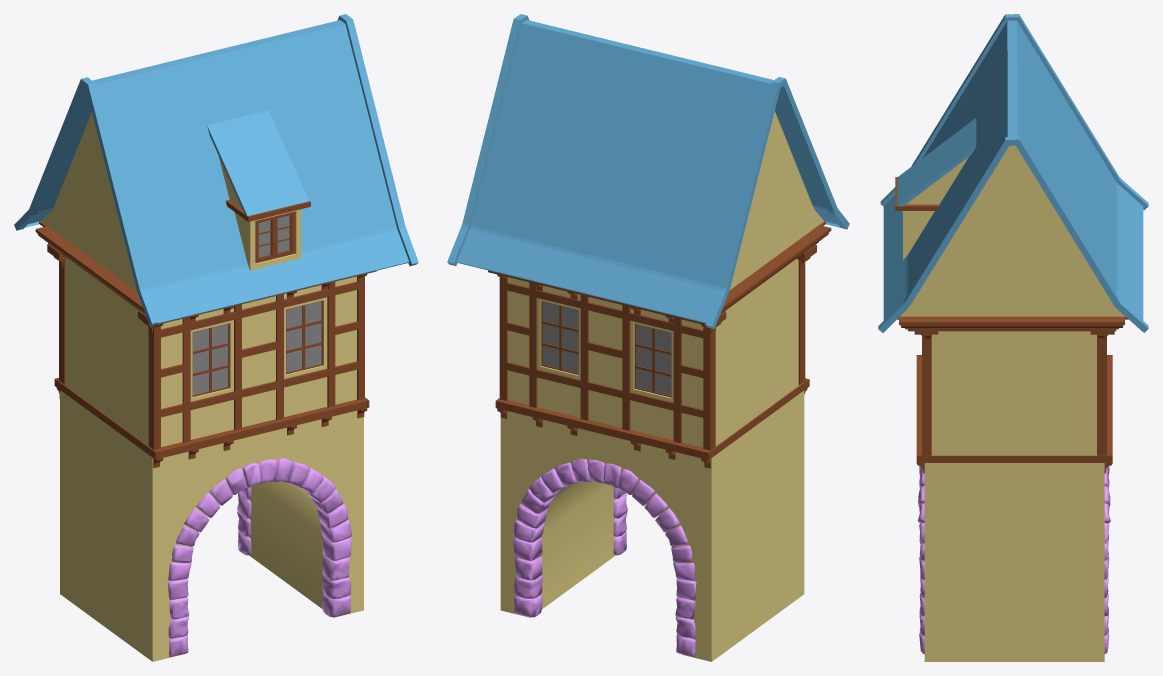
Rendered from talou1.FBX.
3 views of the same model, side by side, from view 1: azimuth 30°, elevation 25°; view 2: azimuth 150°, elevation 25°; view 3: azimuth 270°, elevation 25° (orthographic). The views are drawn at different scales.
Visible parts, largest first — view 1: GateHouseSM_PlasterYellow, GateHouseSM_RoofTiles, GateHouseSM_Wood_Beams, GateHouseSM_Stone_Stacked, GateHouseSM_Glass, GateHouseSM_Mullions_Wood; view 2: GateHouseSM_RoofTiles, GateHouseSM_PlasterYellow, GateHouseSM_Wood_Beams, GateHouseSM_Stone_Stacked, GateHouseSM_Glass, GateHouseSM_Mullions_Wood; view 3: GateHouseSM_PlasterYellow, GateHouseSM_RoofTiles, GateHouseSM_Wood_Beams, GateHouseSM_Stone_Stacked.
Part boxes in pixels (bbox=[...]): GateHouseSM_PlasterYellow: bbox=[41, 112, 363, 661]; GateHouseSM_RoofTiles: bbox=[14, 14, 418, 325]; GateHouseSM_Wood_Beams: bbox=[35, 199, 376, 467]; GateHouseSM_Stone_Stacked: bbox=[167, 458, 351, 657]; GateHouseSM_Glass: bbox=[193, 215, 321, 395]; GateHouseSM_Mullions_Wood: bbox=[192, 211, 323, 396]; GateHouseSM_RoofTiles: bbox=[447, 14, 849, 328]; GateHouseSM_PlasterYellow: bbox=[500, 111, 823, 661]; GateHouseSM_Wood_Beams: bbox=[488, 221, 831, 468]; GateHouseSM_Stone_Stacked: bbox=[513, 458, 696, 656]; GateHouseSM_Glass: bbox=[543, 302, 671, 395]; GateHouseSM_Mullions_Wood: bbox=[541, 301, 671, 397]; GateHouseSM_PlasterYellow: bbox=[900, 145, 1124, 661]; GateHouseSM_RoofTiles: bbox=[878, 14, 1148, 332]; GateHouseSM_Wood_Beams: bbox=[895, 177, 1128, 473]; GateHouseSM_Stone_Stacked: bbox=[917, 466, 1110, 654].
Size of the model in its own units: 4.17 by 8.3 by 3.79.
